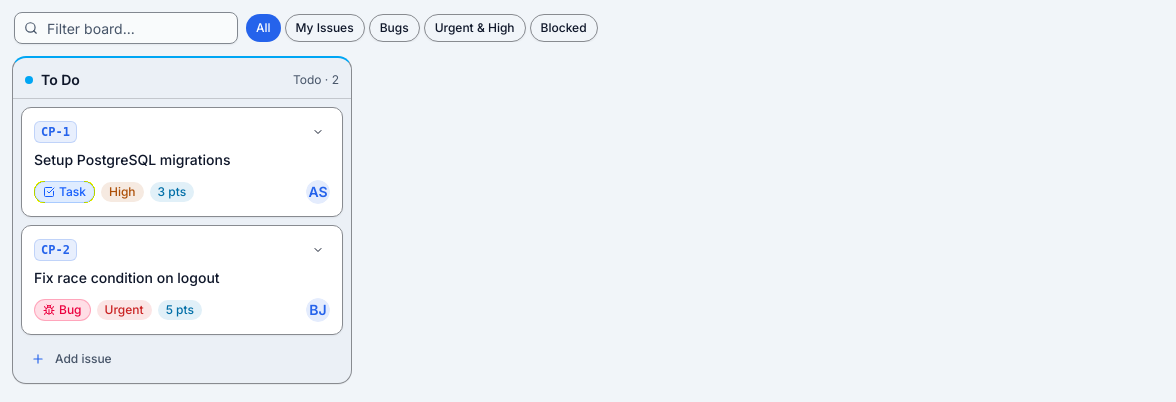
Test case: BoardView › filters cards when clicking Bugs filter chip
Step 1. Click the button "Bugs" → {"x": 394, "y": 28}, box x1=369 y1=14 x2=420 y2=42
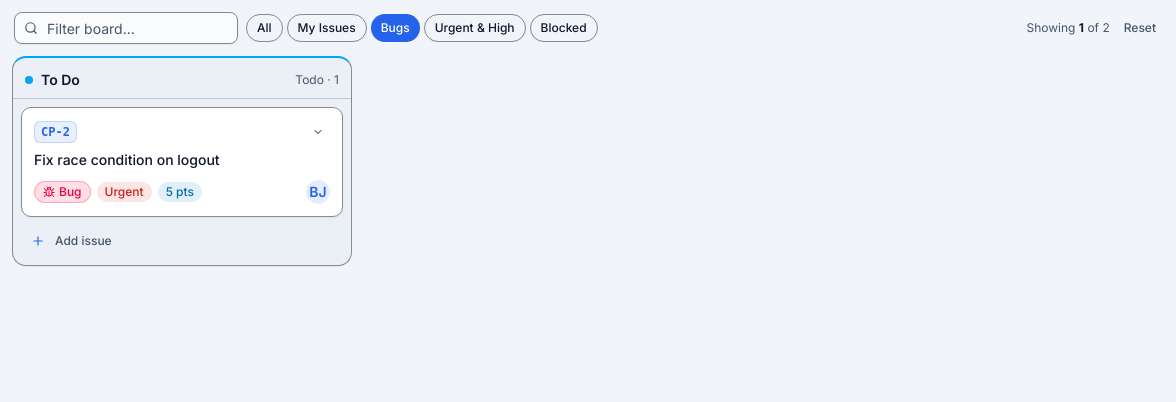
Check: the button "Fix race condition on logout" is shown, box x1=34 y1=150 x2=330 y2=170
Check: the button "Setup PostgreSQL migrations" is gone
